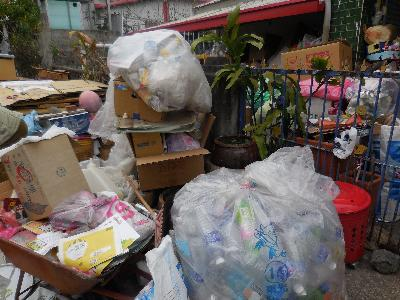bowl: (208, 135, 261, 168)
box: (2, 129, 99, 222), (131, 140, 210, 193)
plastic_bag: (168, 144, 348, 300), (106, 27, 214, 118)
